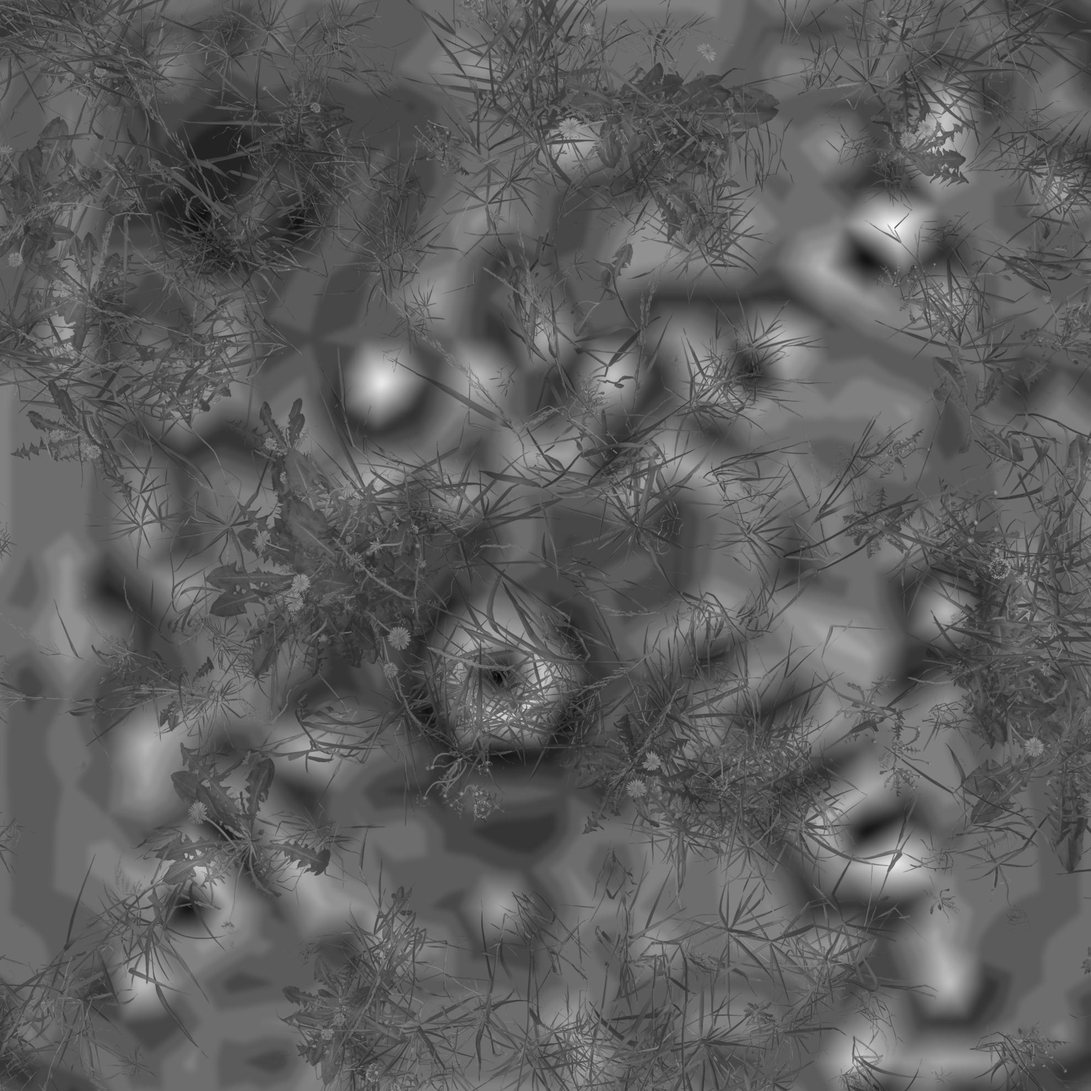landmine: (415, 598, 588, 756), (159, 118, 324, 266)
